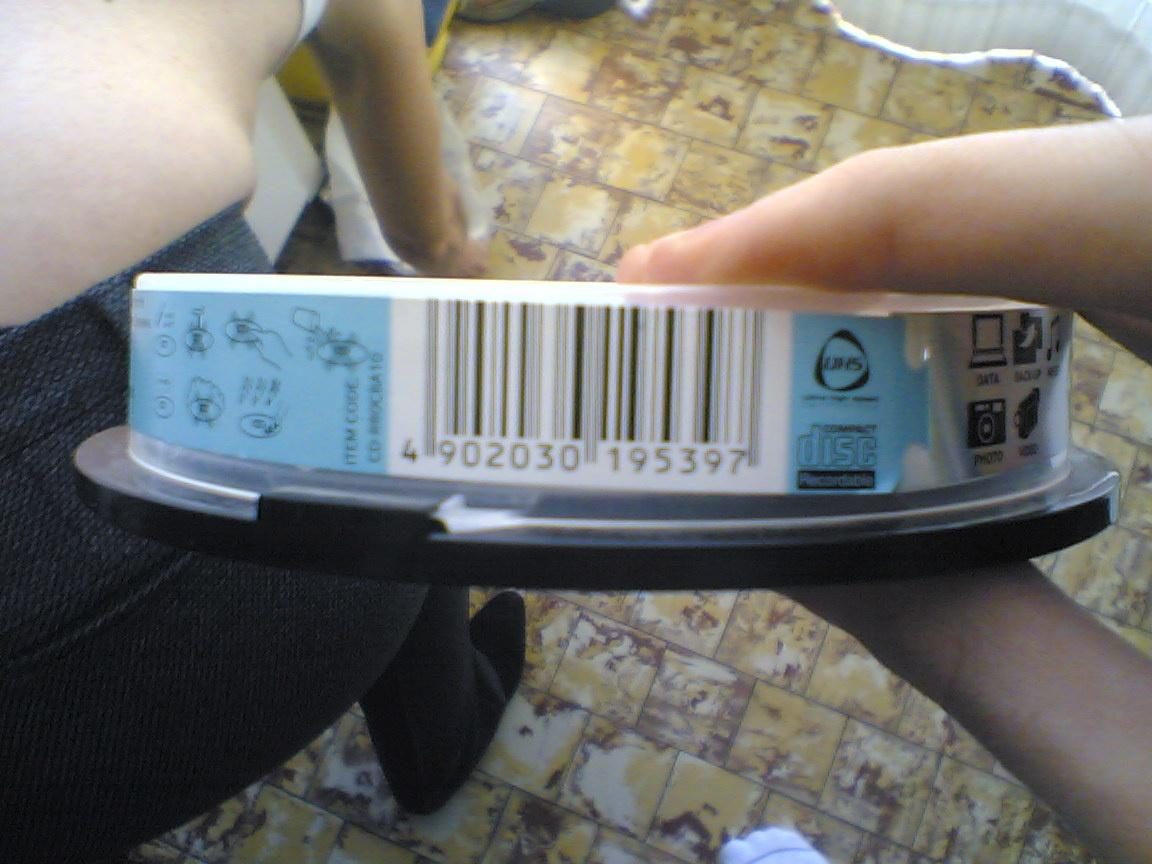Barcode: (391, 288, 792, 499)
